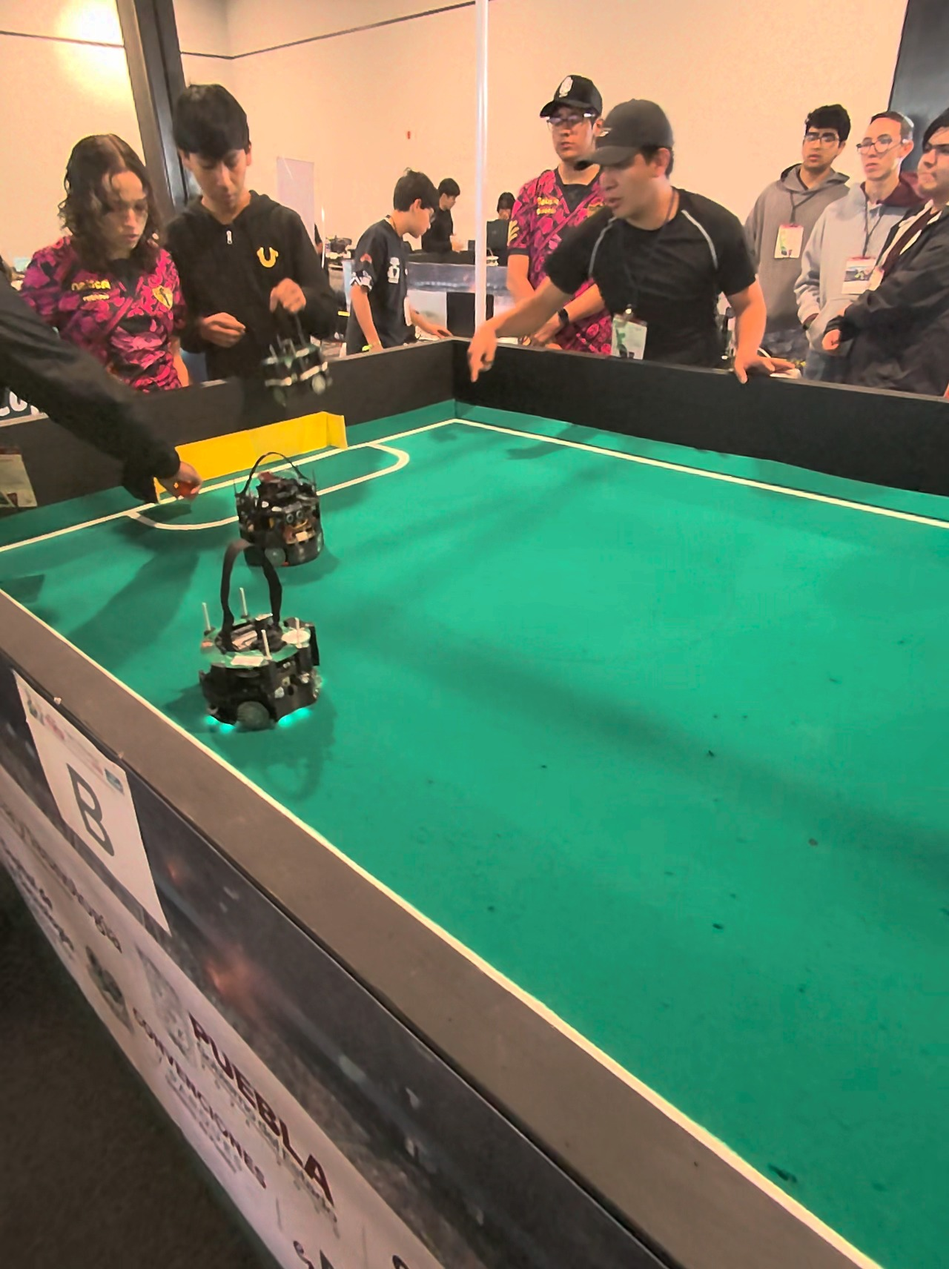Robot: (185, 552, 332, 761), (231, 446, 325, 560)
